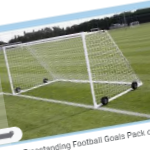goals: (3, 29, 143, 113)
